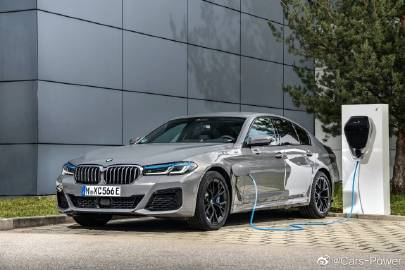other: (51, 117, 338, 221)
